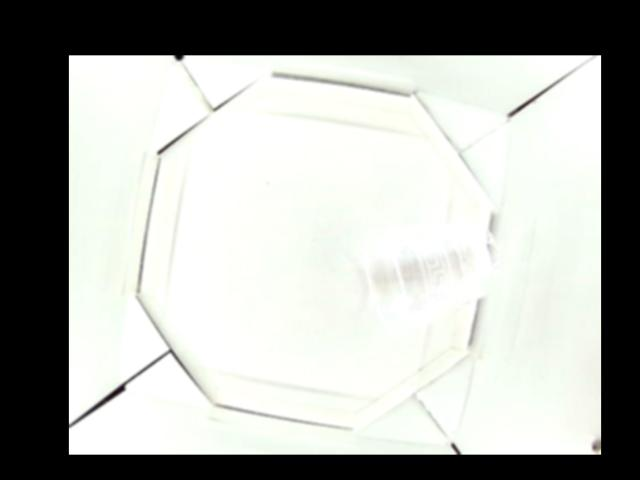Cup: (363, 224, 503, 323)
